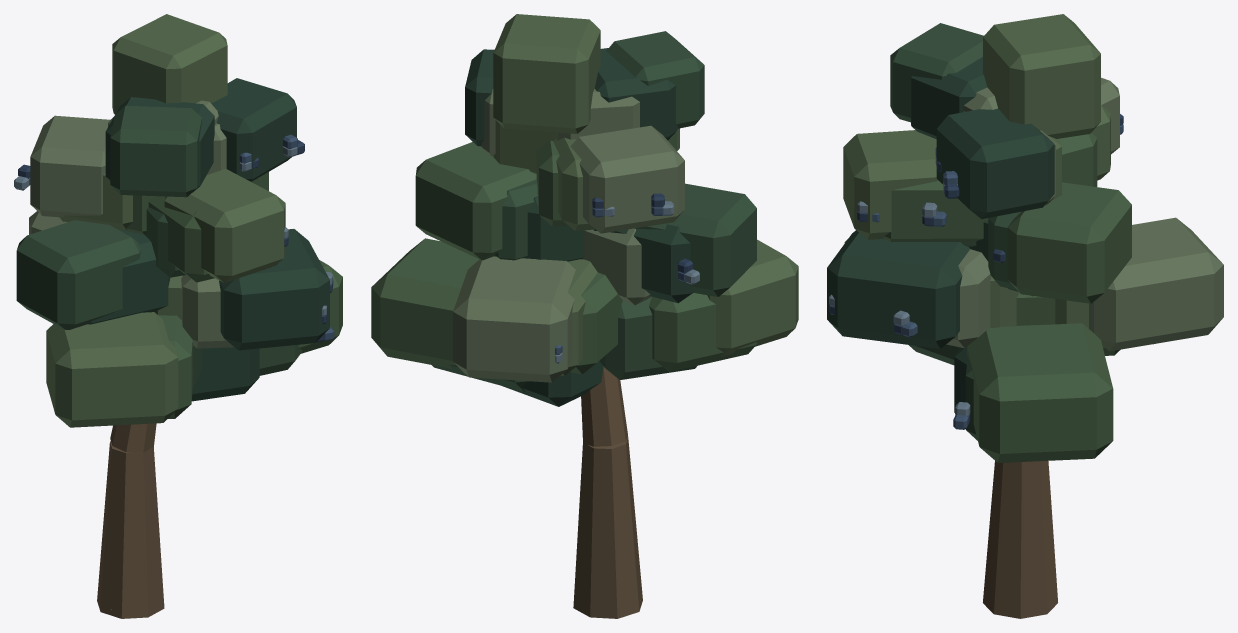
The model's file is juniper_ancient.glb.
3 views of the same model, side by side, from view 1: azimuth 30°, elevation 25°; view 2: azimuth 150°, elevation 25°; view 3: azimuth 270°, elevation 25° (orthographic). The views are drawn at different scales.
Parts seen in each view (by area): view 1: juniper_ancient; view 2: juniper_ancient; view 3: juniper_ancient.
Boxes of the visible parts, left/top/right/bottom form: juniper_ancient: left=14, top=14, right=342, bottom=618; juniper_ancient: left=371, top=14, right=798, bottom=618; juniper_ancient: left=827, top=14, right=1223, bottom=618.
Bounding box in the file's own units: 10.07 × 16 × 9.68.
